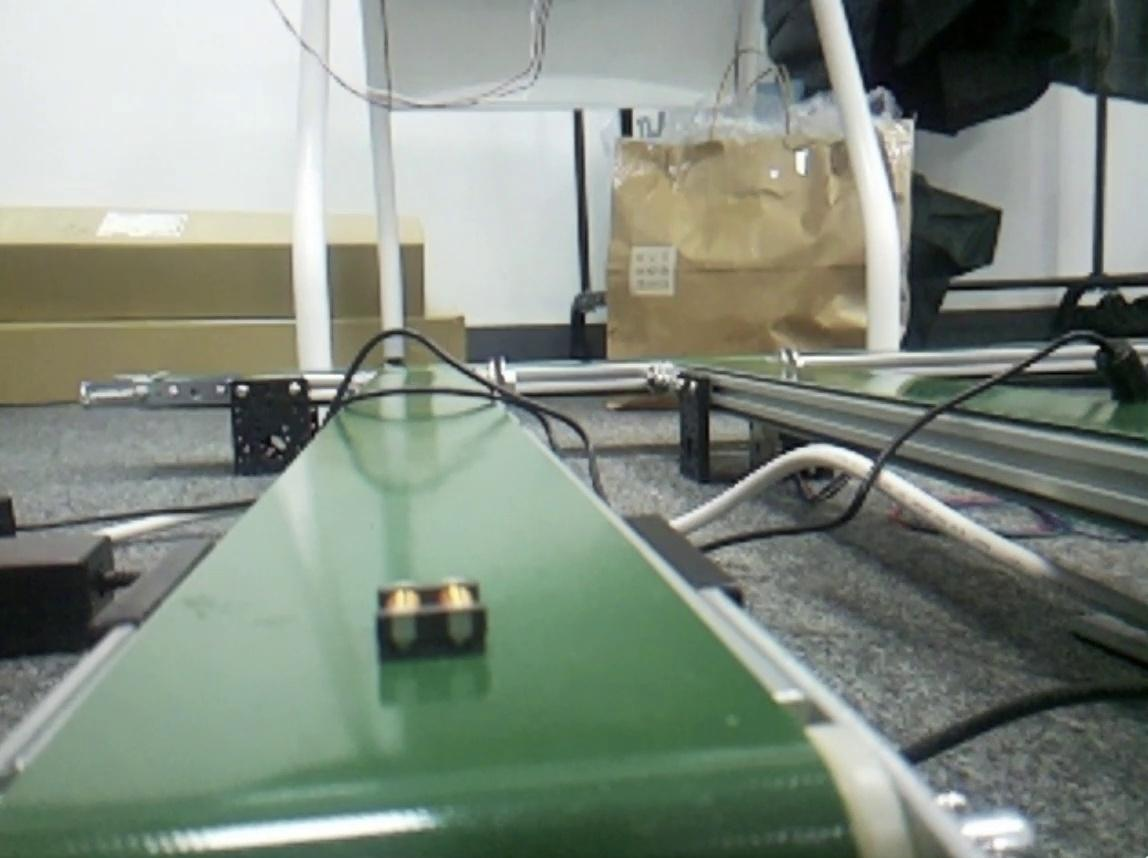inductor: (380, 580, 489, 652)
